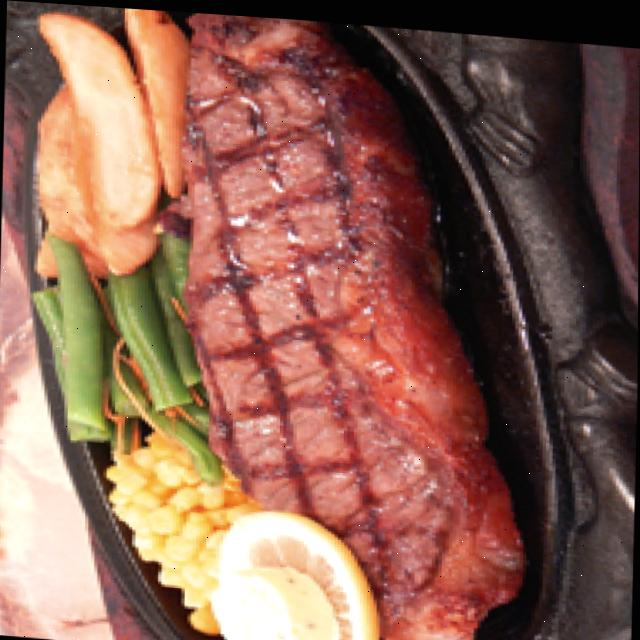牛肉菜式: (145, 8, 538, 640)
